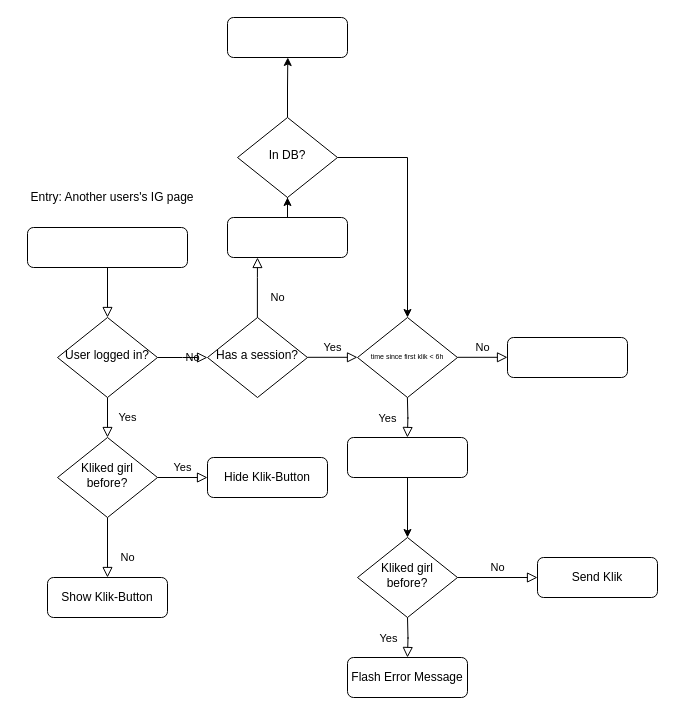
Some shapes in this 675 by 715 pixel diagram are drawn without their labels. The shapes that lost their labels are listed below. From the top down, each one's centre as x and y in pixels, then its label:
point 287,37: Save Klik (0), create user
point 107,247: User opens klik.re/girl
point 287,237: User must enter name
point 567,357: Redirect to Login
point 407,457: Let it klik
